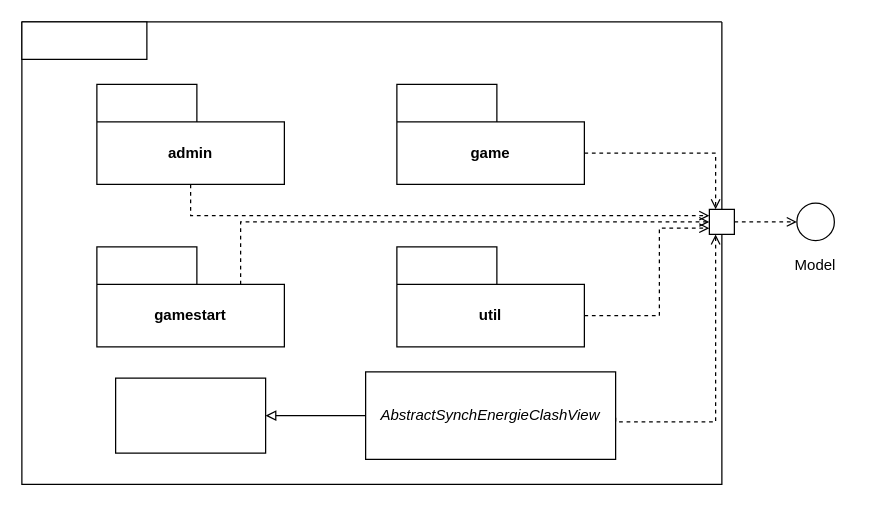
Some shapes in this 875 by 506 pixel diagram are drawn without their labels. The shapes that lost their labels are listed below. From the top down, each one's centre as x and y in pixels, then its label:
At [84,40]: "view".
At [190,415]: "AbstractSynchView".
